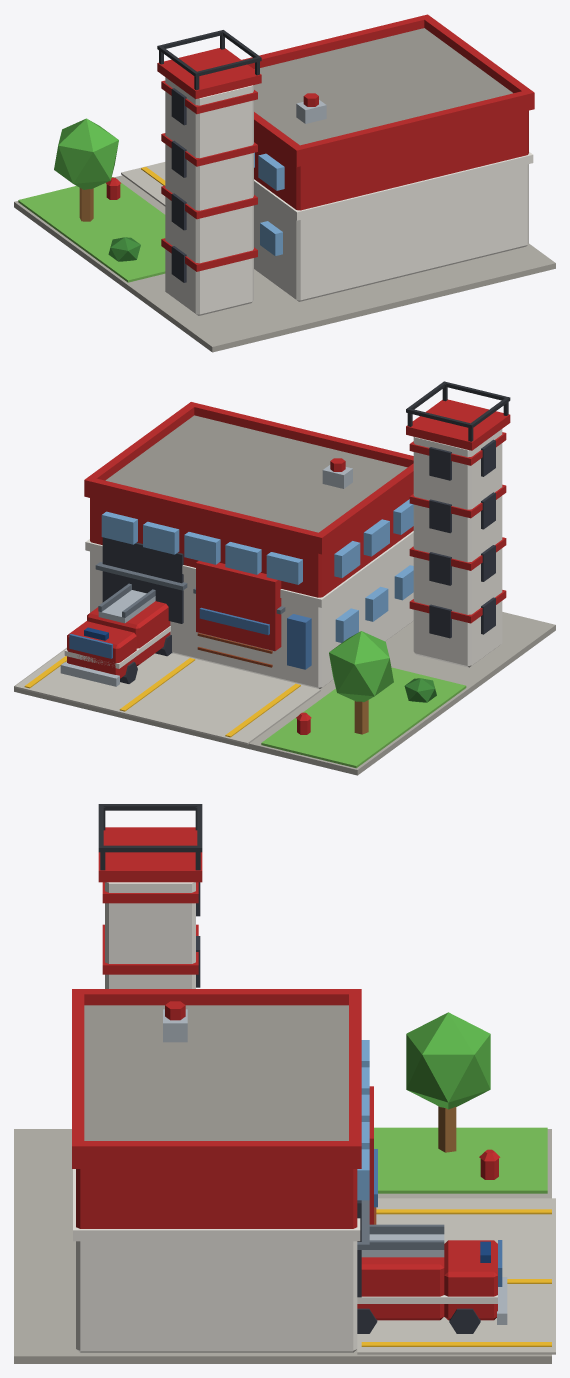
The model's file is quartel_bombeiros.glb.
3 renders of one model, top to bottom at view 1: azimuth 30°, elevation 25°; view 2: azimuth 150°, elevation 25°; view 3: azimuth 270°, elevation 25°, orthographic. The views are drawn at different scales.
Parts seen in each view (by area): view 1: corpo; view 2: corpo; view 3: corpo.
Boxes of the visible parts, left/top/right/bottom form: corpo: left=14, top=14, right=555, bottom=352; corpo: left=14, top=381, right=555, bottom=775; corpo: left=14, top=804, right=555, bottom=1363.
Bounding box in the file's own units: 1.3 × 0.912 × 1.31.
